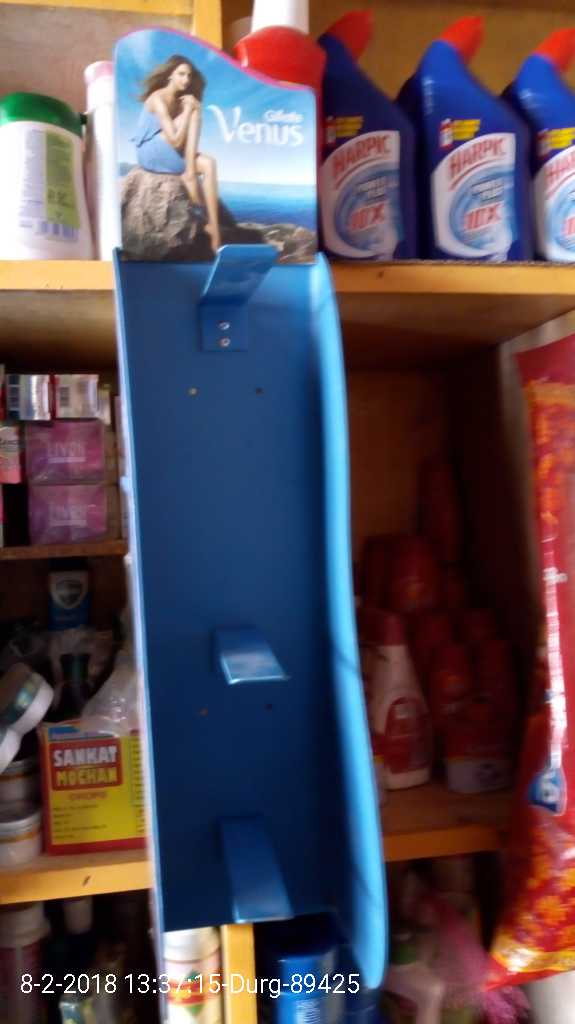reject: (166, 458, 233, 553)
